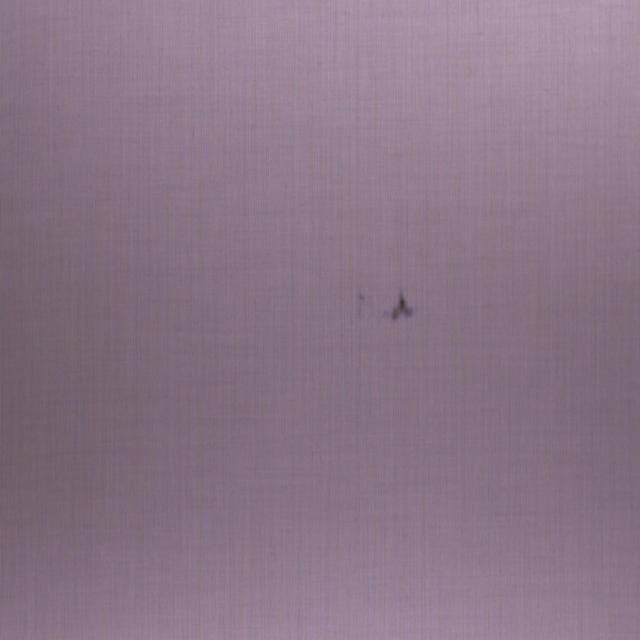dirty: (388, 289, 415, 326)
